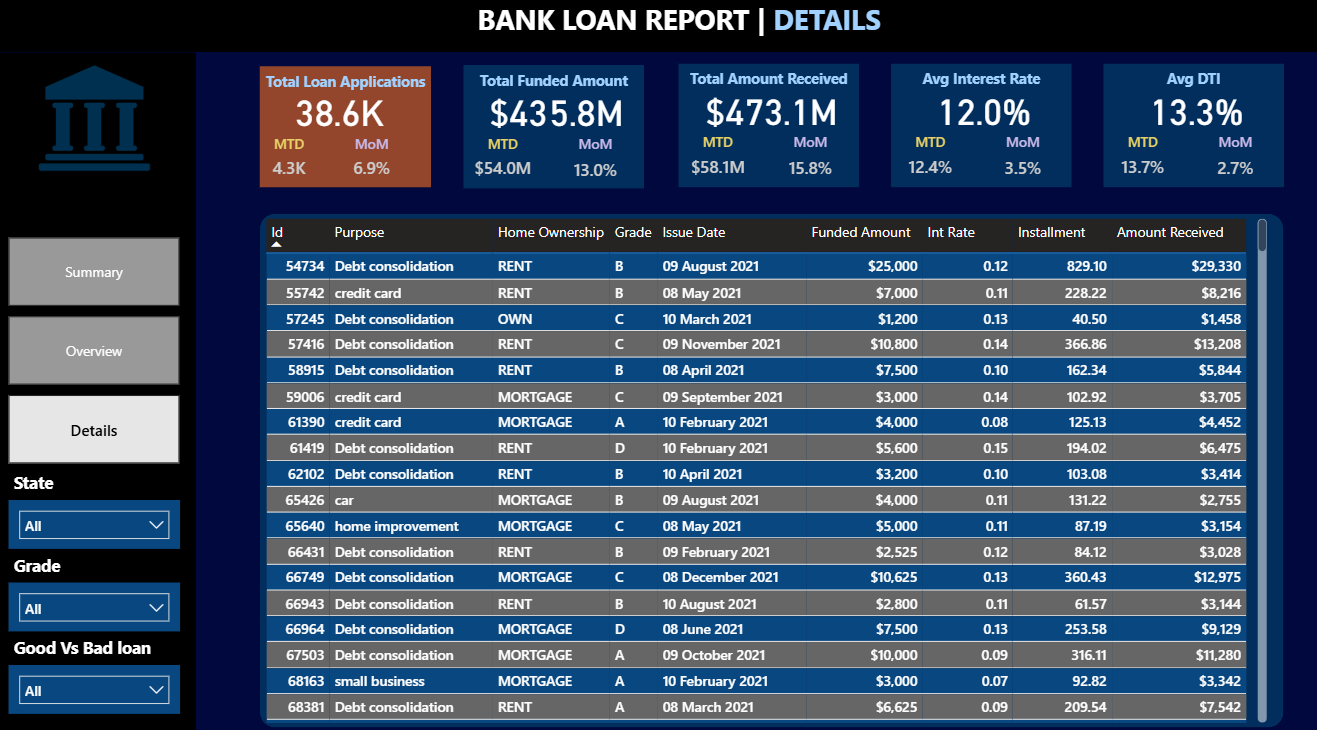

This screenshot's page, from the dashboard's own definition file:
{"tool":"powerbi","page":{"name":"Details","canvas":[1280,720],"ordinal":2},"visuals":[{"type":"shape","box":[1.2,55.5,191.8,664.7],"z":0},{"type":"shape","box":[0,0,1280,55],"z":1000},{"type":"textbox","box":[459.7,0,627.3,62.7],"z":2000},{"type":"group","id":"g1","title":"Group 2","box":[241.3,49.5,178.6,136.3],"z":3000},{"type":"group","id":"g2","title":"Group 1","box":[658.1,66.3,174.2,121.5],"z":3000,"group":"g9"},{"type":"shape","box":[658.1,66.3,174.2,119.1],"z":3000,"group":"g2"},{"type":"group","id":"g3","title":"Group 1","box":[863.5,66.3,174.2,121.5],"z":3000,"group":"g10"},{"type":"shape","box":[863.5,66.3,174.2,119.1],"z":3000,"group":"g3"},{"type":"group","id":"g4","title":"Group 1","box":[1068.9,66.3,174.2,121.5],"z":3000,"group":"g11"},{"type":"shape","box":[1068.9,66.3,174.2,119.1],"z":3000,"group":"g4"},{"type":"group","id":"g5","title":"Group 1","box":[451.5,67.5,174.2,121.5],"z":3000,"group":"g7"},{"type":"shape","box":[451.5,67.5,174.2,119.1],"z":3000,"group":"g5"},{"type":"group","id":"g6","title":"Group 1","box":[241.3,68.8,178.6,117],"z":3000,"group":"g8"},{"type":"shape","box":[254.6,68.8,165.3,117],"z":3000,"group":"g6"},{"type":"card","fields":{"Values":["All Measures.Total Amount Received"]},"box":[674.4,48.3,146,124.3],"z":4000,"group":"g9"},{"type":"card","fields":{"Values":["All Measures.Avg Interest Rate"]},"box":[879.8,48.3,146,124.3],"z":4000,"group":"g10"},{"type":"card","fields":{"Values":["All Measures.Avg DTI"]},"box":[1085.2,48.3,146,124.3],"z":4000,"group":"g11"},{"type":"card","fields":{"Values":["All Measures.Total Loan Applications"]},"box":[254.6,49.5,154.4,123.1],"z":4000,"group":"g8"},{"type":"group","id":"g7","title":"Group 2","box":[451.5,49.5,174.9,138.7],"z":4000},{"type":"card","fields":{"Values":["All Measures.Total Funded Amount"]},"box":[467.8,49.5,146,124.3],"z":4000,"group":"g7"},{"type":"group","id":"g8","title":"Group 3","box":[241.3,49.5,178.6,136.3],"z":4001,"group":"g1"},{"type":"textbox","box":[658.1,66.3,174.2,43],"z":5000,"group":"g2"},{"type":"textbox","box":[863.5,66.3,174.2,43],"z":5000,"group":"g3"},{"type":"textbox","box":[1068.9,66.3,174.2,43],"z":5000,"group":"g4"},{"type":"textbox","box":[451.5,67.5,174.2,43],"z":5000,"group":"g5"},{"type":"textbox","box":[254.6,68.8,165.3,42.2],"z":5000,"group":"g6"},{"type":"shape","box":[254.6,211.1,988.1,495.8],"z":5000},{"type":"group","id":"g9","title":"Group 2","box":[658.1,48.3,173.7,138.7],"z":6000},{"type":"card","title":"MTD","fields":{"Values":["All Measures.MTD Total Amount Received"]},"box":[658.8,132.3,73.6,53.1],"z":6000,"group":"g2"},{"type":"card","title":"MTD","fields":{"Values":["All Measures.MTD Interest Rate"]},"box":[864.2,132.3,73.6,53.1],"z":6000,"group":"g3"},{"type":"card","title":"MTD","fields":{"Values":["All Measures.MTD Avg DTI"]},"box":[1069.6,132.3,73.6,53.1],"z":6000,"group":"g4"},{"type":"card","title":"MTD","fields":{"Values":["All Measures.MTD Funded Amount"]},"box":[452.2,133.5,73.6,53.1],"z":6000,"group":"g5"},{"type":"card","title":"MTD","fields":{"Values":["All Measures.MTD Total Loan Applications"]},"box":[241.3,133.9,83.2,51.9],"z":6000,"group":"g6"},{"type":"group","id":"g10","title":"Group 2","box":[863.5,48.3,173.7,138.7],"z":7000},{"type":"card","title":"MoM","fields":{"Values":["All Measures.MOM Amount Received"]},"box":[750,132.3,71.2,55.5],"z":7000,"group":"g2"},{"type":"card","title":"MoM","fields":{"Values":["All Measures.MOM Interest Rate"]},"box":[955.4,132.3,71.2,55.5],"z":7000,"group":"g3"},{"type":"card","title":"MoM","fields":{"Values":["All Measures.MOM Avg DTI"]},"box":[1160.8,132.3,71.2,55.5],"z":7000,"group":"g4"},{"type":"card","title":"MoM","fields":{"Values":["All Measures.MOM Funded Amount"]},"box":[543.4,133.5,71.2,55.5],"z":7000,"group":"g5"},{"type":"card","title":"MoM","fields":{"Values":["All Measures.MOM Loan Applications"]},"box":[316.1,133.9,92.9,51.9],"z":7000,"group":"g6"},{"type":"group","id":"g11","title":"Group 2","box":[1068.9,48.3,173.7,138.7],"z":8000},{"type":"slicer","fields":{"Values":["bank_loan.address_state"]},"box":[12.1,487.4,165.3,47.1],"z":9000},{"type":"textbox","box":[12.1,454.8,213.5,56.7],"z":10000},{"type":"slicer","fields":{"Values":["bank_loan.grade"]},"box":[12.1,567,165.3,47.1],"z":11000},{"type":"textbox","box":[12.1,534.5,213.5,56.7],"z":12000},{"type":"slicer","fields":{"Values":["bank_loan.Good Loan Vs Bad Loan"]},"box":[12.1,646.7,165.3,47.1],"z":13000},{"type":"textbox","box":[12.1,614.1,213.5,56.7],"z":14000},{"type":"tableEx","fields":{"Values":["bank_loan.id","bank_loan.purpose","bank_loan.home_ownership","bank_loan.grade","bank_loan.issue_date","All Measures.Total Funded Amount","Sum(bank_loan.int_rate)","Sum(bank_loan.installment)","All Measures.Total Amount Received"]},"box":[254.6,211.1,977.2,495.8],"z":17000},{"type":"pageNavigator","box":[12.1,234,165.3,220.8],"z":17001},{"type":"image","box":[12.1,51.9,165.3,133.9],"z":17002}]}

Visuals, with their boxes in screenshot pixels (x1, y1, x2, y2), scaled from the page's 1280x720 canvas onto the 1317x730 screenshot:
shape: l=1, t=56, r=199, b=729
shape: l=0, t=0, r=1316, b=56
textbox: l=473, t=0, r=1118, b=64
"Group 2" group: l=248, t=50, r=432, b=188
"Group 1" group: l=677, t=67, r=856, b=190
shape: l=677, t=67, r=856, b=188
"Group 1" group: l=888, t=67, r=1068, b=190
shape: l=888, t=67, r=1068, b=188
"Group 1" group: l=1100, t=67, r=1279, b=190
shape: l=1100, t=67, r=1279, b=188
"Group 1" group: l=465, t=68, r=644, b=192
shape: l=465, t=68, r=644, b=189
"Group 1" group: l=248, t=70, r=432, b=188
shape: l=262, t=70, r=432, b=188
card - All Measures.Total Amount Received: l=694, t=49, r=844, b=175
card - All Measures.Avg Interest Rate: l=905, t=49, r=1055, b=175
card - All Measures.Avg DTI: l=1117, t=49, r=1267, b=175
card - All Measures.Total Loan Applications: l=262, t=50, r=421, b=175
"Group 2" group: l=465, t=50, r=645, b=191
card - All Measures.Total Funded Amount: l=481, t=50, r=632, b=176
"Group 3" group: l=248, t=50, r=432, b=188
textbox: l=677, t=67, r=856, b=111
textbox: l=888, t=67, r=1068, b=111
textbox: l=1100, t=67, r=1279, b=111
textbox: l=465, t=68, r=644, b=112
textbox: l=262, t=70, r=432, b=113
shape: l=262, t=214, r=1279, b=717
"Group 2" group: l=677, t=49, r=856, b=190
"MTD" card: l=678, t=134, r=754, b=188
"MTD" card: l=889, t=134, r=965, b=188
"MTD" card: l=1101, t=134, r=1176, b=188
"MTD" card: l=465, t=135, r=541, b=189
"MTD" card: l=248, t=136, r=334, b=188
"Group 2" group: l=888, t=49, r=1067, b=190
"MoM" card: l=772, t=134, r=845, b=190
"MoM" card: l=983, t=134, r=1056, b=190
"MoM" card: l=1194, t=134, r=1268, b=190
"MoM" card: l=559, t=135, r=632, b=192
"MoM" card: l=325, t=136, r=421, b=188
"Group 2" group: l=1100, t=49, r=1279, b=190
slicer - bank_loan.address_state: l=12, t=494, r=183, b=542
textbox: l=12, t=461, r=232, b=519
slicer - bank_loan.grade: l=12, t=575, r=183, b=623
textbox: l=12, t=542, r=232, b=599
slicer - bank_loan.Good Loan Vs Bad Loan: l=12, t=656, r=183, b=703
textbox: l=12, t=623, r=232, b=680
tableEx - bank_loan.id x bank_loan.purpose: l=262, t=214, r=1267, b=717
pageNavigator: l=12, t=237, r=183, b=461
image: l=12, t=53, r=183, b=188
